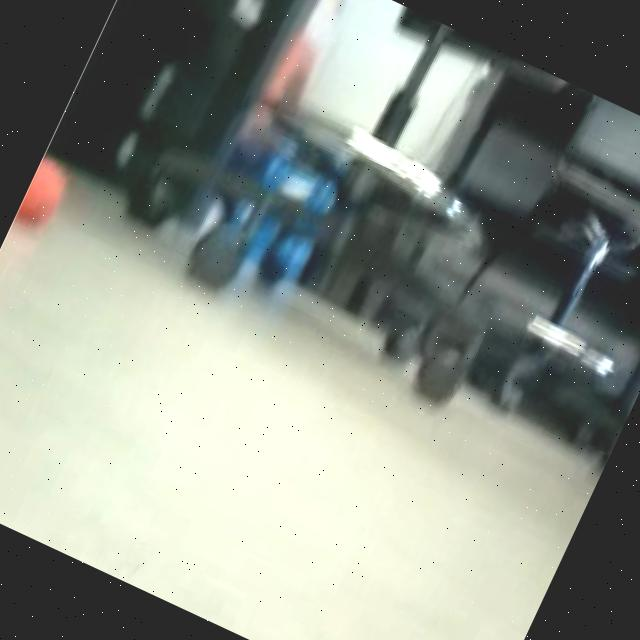ping-pong-ball: (12, 152, 74, 236)
